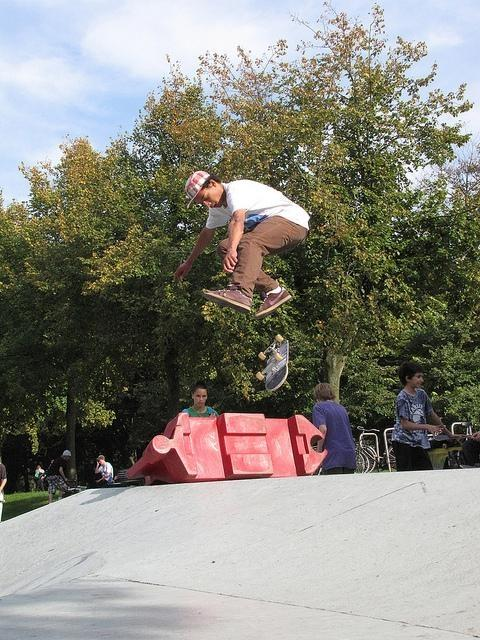bicycle: (358, 426, 396, 472), (354, 442, 376, 474), (452, 437, 470, 468), (354, 449, 370, 474), (356, 455, 364, 471)
